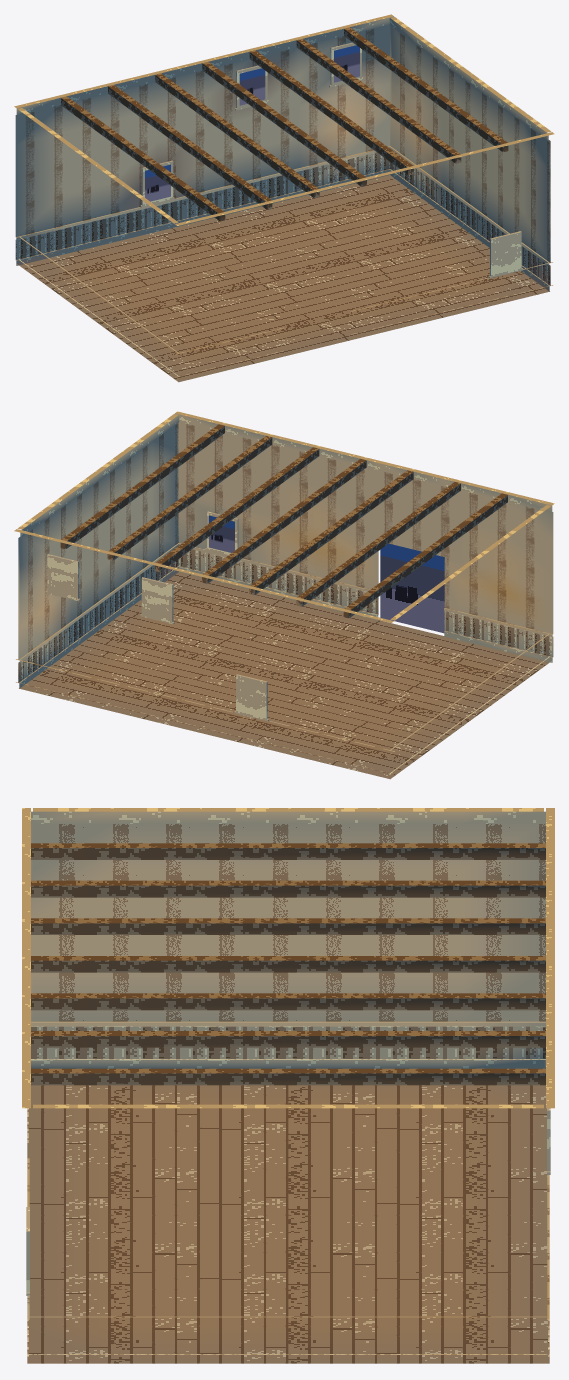
File: wtown.room__saloon.glb
3 renders of one model, top to bottom at view 1: azimuth 30°, elevation 25°; view 2: azimuth 150°, elevation 25°; view 3: azimuth 270°, elevation 25°, orthographic. The views are drawn at different scales.
Visible parts, largest first — view 1: kit_shell_walls, kit_shell_floor, kit_beams, kit_windows, kit_card_views; view 2: kit_shell_walls, kit_shell_floor, kit_beams, kit_windows, kit_card_door_views, kit_card_views; view 3: kit_shell_floor, kit_shell_walls, kit_beams.
Boxes of the visible parts, x1,y1,x2,y2 form: kit_shell_walls: (14, 14, 554, 377); kit_shell_floor: (19, 175, 549, 382); kit_beams: (61, 27, 508, 221); kit_windows: (140, 42, 523, 278); kit_card_views: (145, 45, 359, 202); kit_shell_walls: (14, 411, 554, 774); kit_shell_floor: (19, 572, 549, 779); kit_beams: (60, 424, 507, 618); kit_windows: (45, 511, 268, 721); kit_card_door_views: (380, 543, 444, 633); kit_card_views: (209, 515, 234, 552); kit_shell_floor: (27, 1085, 549, 1363); kit_shell_walls: (22, 808, 554, 1356); kit_beams: (31, 843, 545, 1085).
Bounding box in the file's own units: 16 × 6.45 × 12.18.
Materials: 7 (7 with a texture image).
